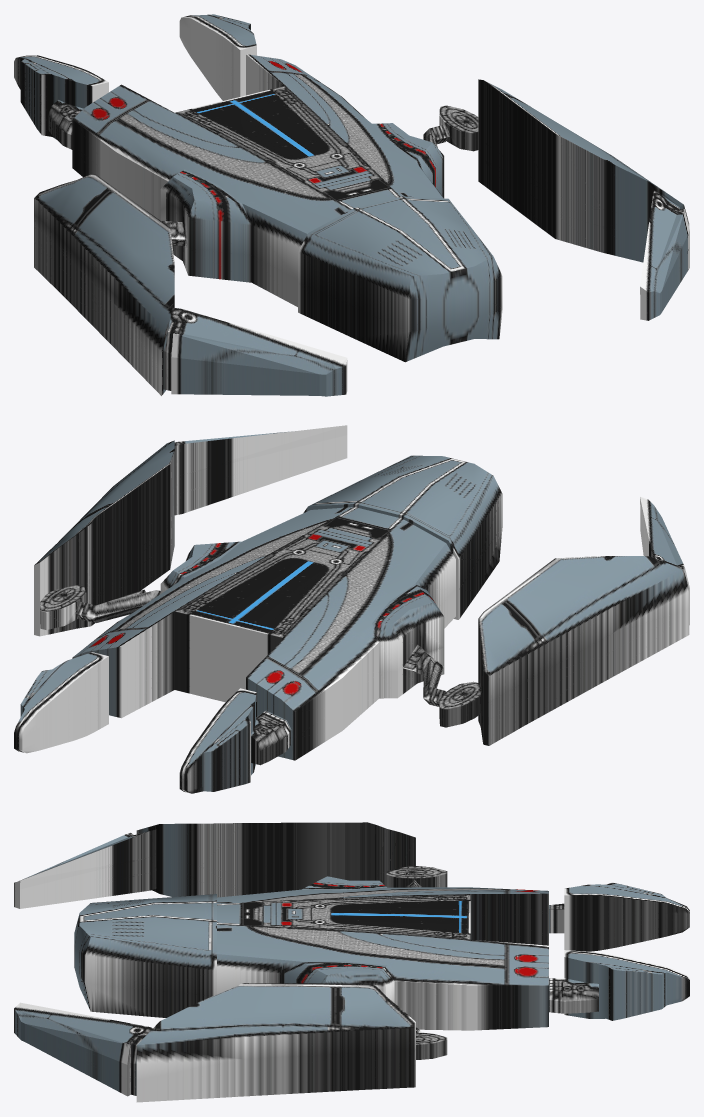
File: Enemy TYPE 01.FBX
3 views of the same model, one above another, from view 1: azimuth 30°, elevation 25°; view 2: azimuth 150°, elevation 25°; view 3: azimuth 270°, elevation 25° (orthographic). The views are drawn at different scales.
Parts seen in each view (by area): view 1: Box001; view 2: Box001; view 3: Box001.
Boxes of the visible parts, x1,y1,x2,y2 form: Box001: [14, 14, 689, 396]; Box001: [14, 425, 689, 793]; Box001: [14, 822, 689, 1102].
Size of the model in its own units: 9.25 by 1.76 by 12.04.
Materials: 1 (1 with a texture image).
